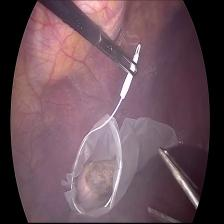Grasper: (143, 146, 199, 224), (95, 24, 142, 81)
Specimen Bag: (59, 71, 182, 221)
